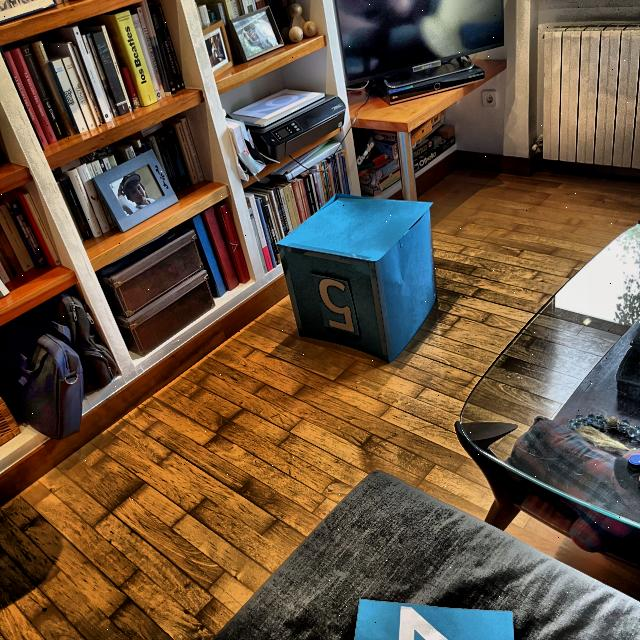blue box: (274, 188, 442, 366)
five: (314, 274, 358, 334)
